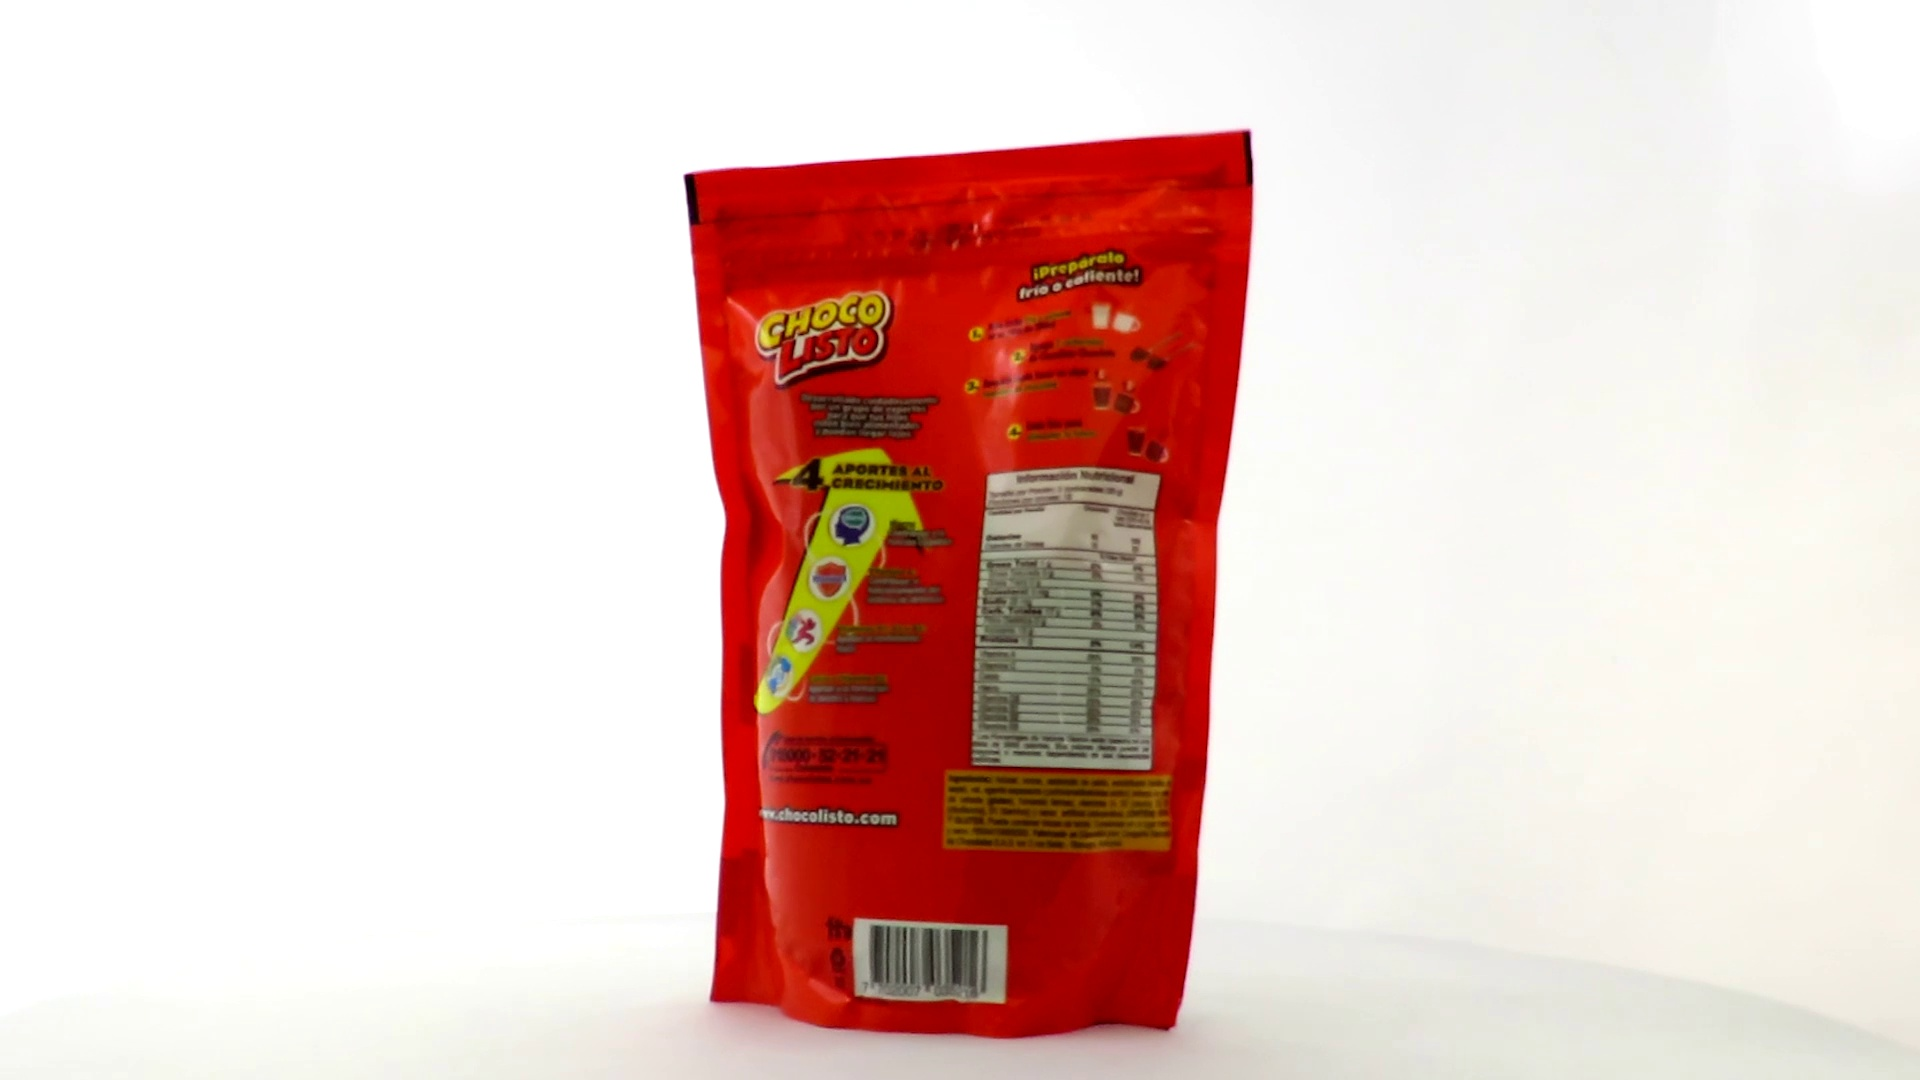COL0170103DYP36000: (679, 125, 1259, 1044)
